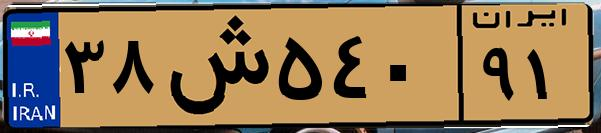0: (385, 28, 445, 110)
1: (525, 38, 570, 115)
3: (57, 26, 110, 100)
4: (330, 28, 385, 110)
5: (270, 28, 330, 110)
8: (110, 28, 158, 98)
9: (475, 38, 525, 113)
ش: (158, 12, 270, 120)
